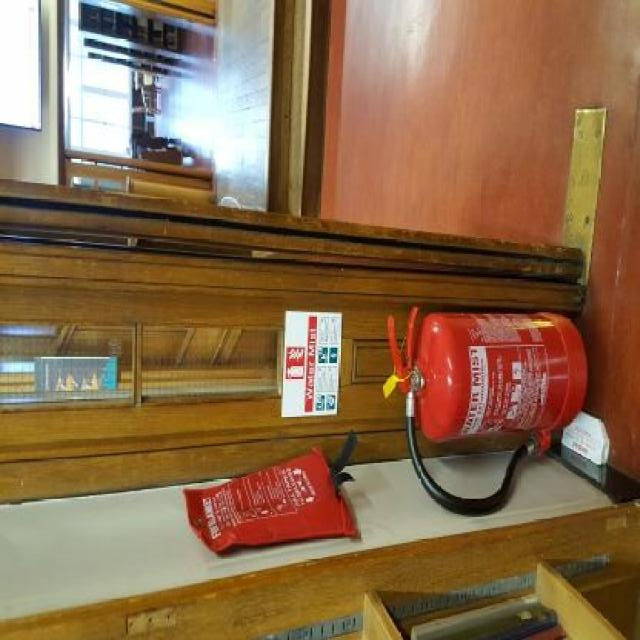fire extinguisher: (386, 303, 588, 519)
